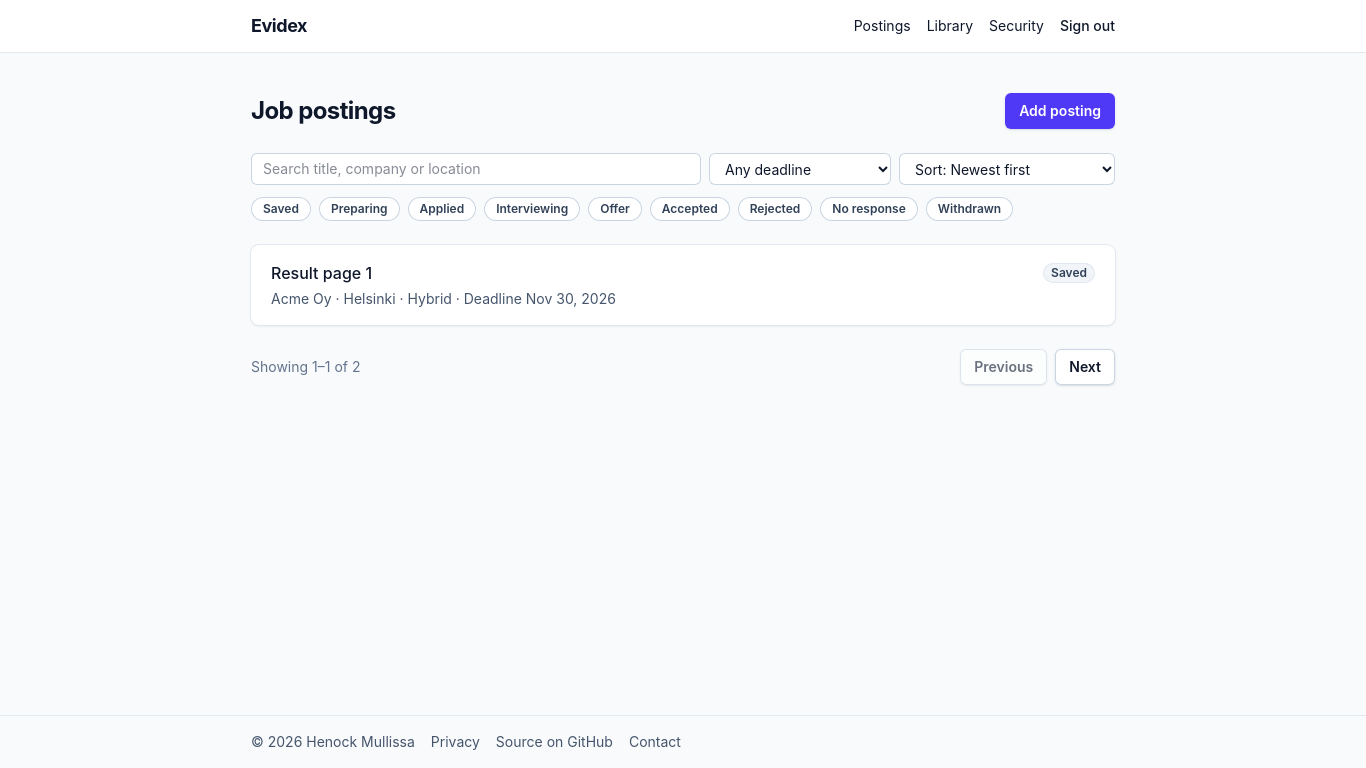
Test case: Job postings › filters by status, search and deadline through the URL and pages through results
This screenshot has width=1366, height=768.
Expected: the text "Showing 1–1 of 2" is shown, [251,357,360,377]
Click the button "Applied". click: point(442, 209)
box: [408,197,476,221]
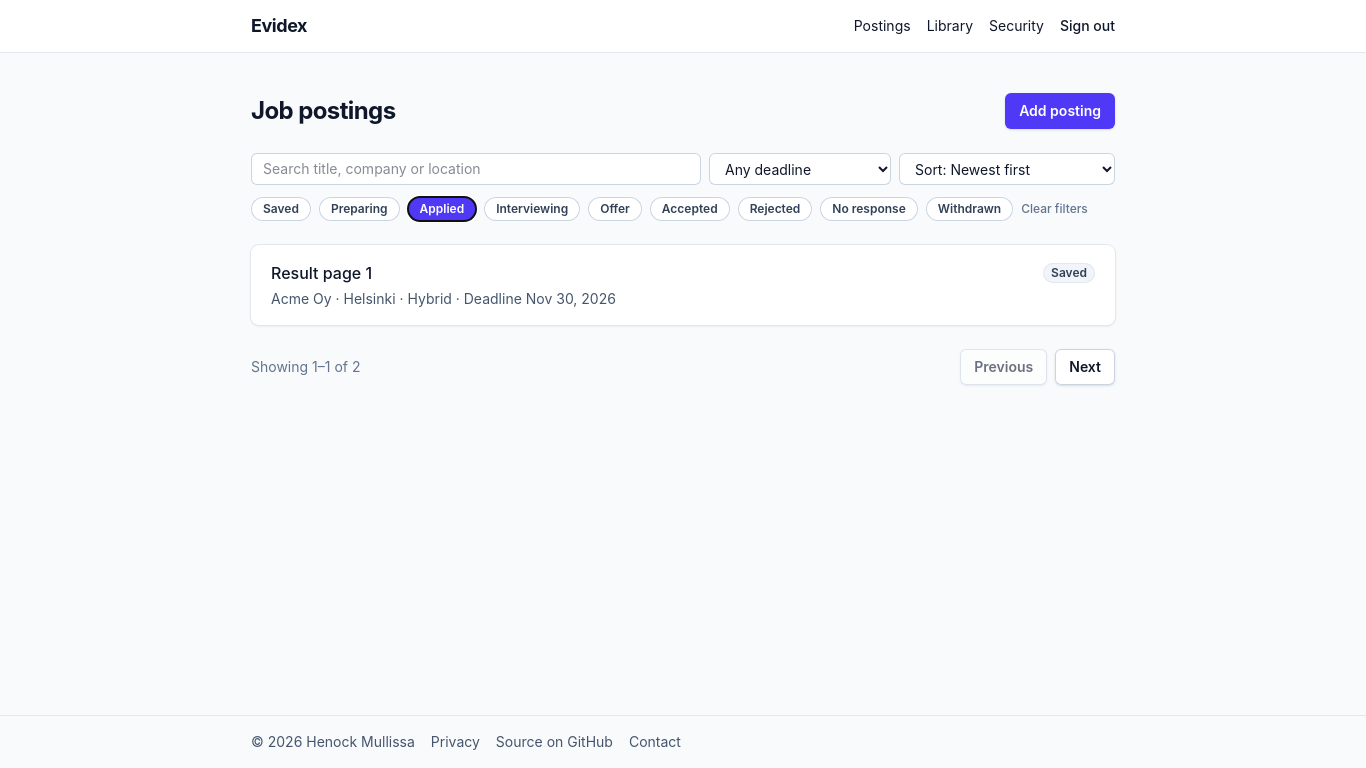
Click the button "Interviewing". click: point(532, 209)
box: [484,197,580,221]
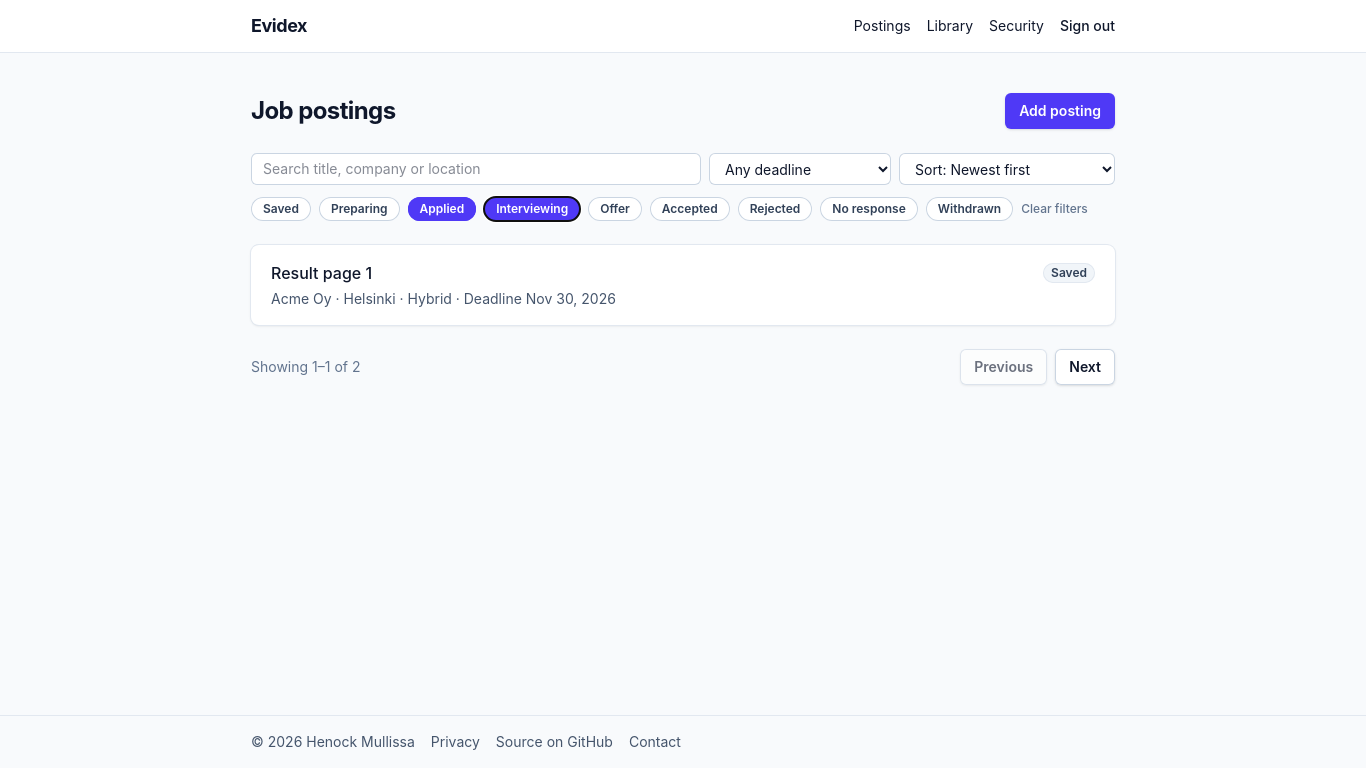
Select "Due within 7 days" in the dropdown named "Deadline". click: point(800, 169)
box: [709,153,891,185]
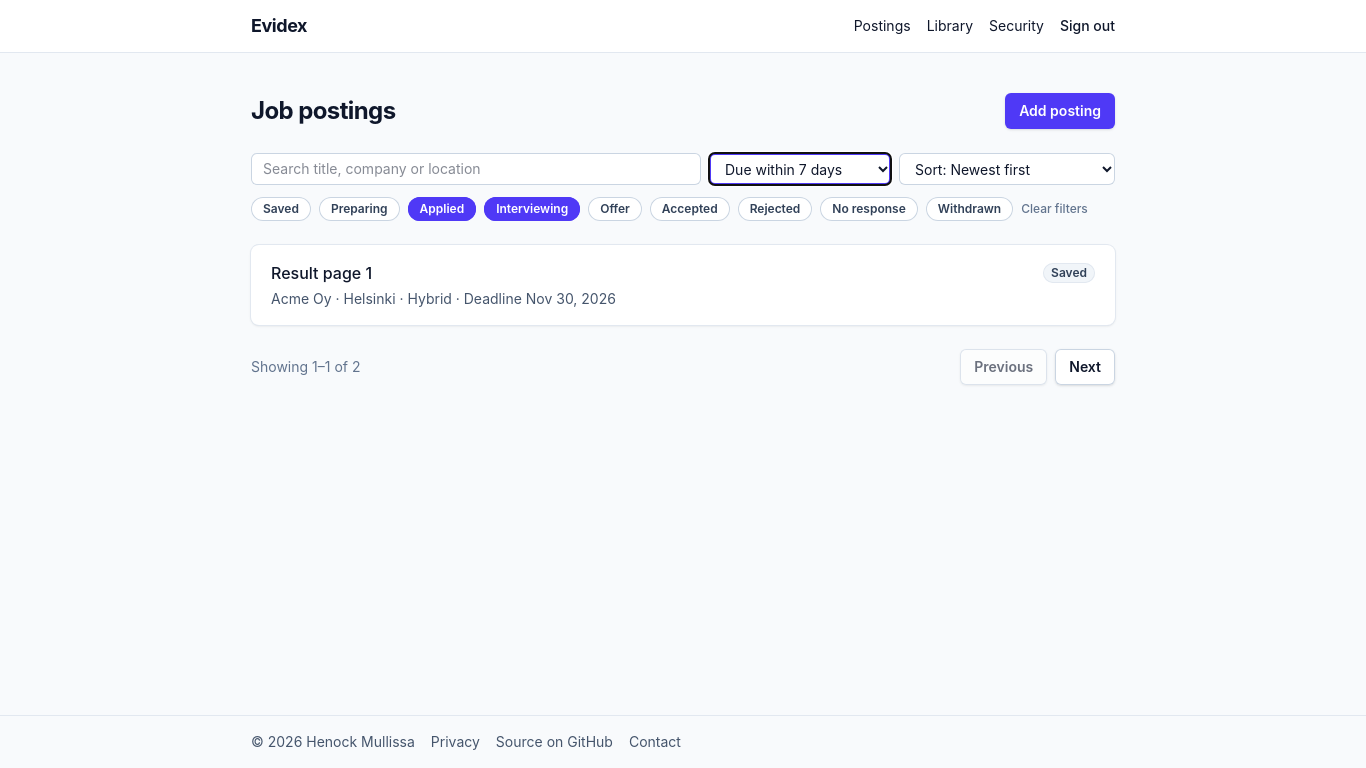
Type "rails" into the search field named "Search postings". click: point(476, 169)
box: [251,153,701,185]
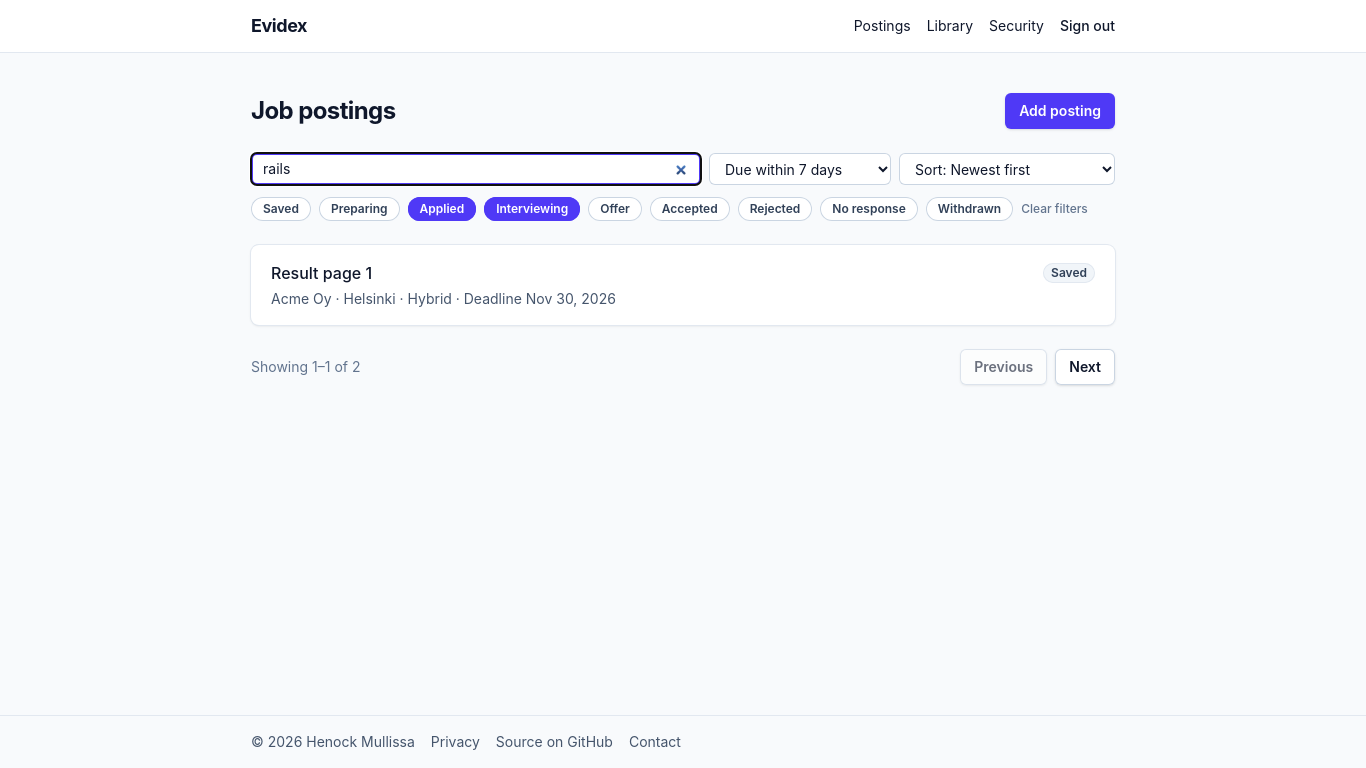
Now the button "Applied" is pressed, box [408,197,476,221]
Click the button "Next". click: point(1085, 367)
box: [1055,349,1115,385]
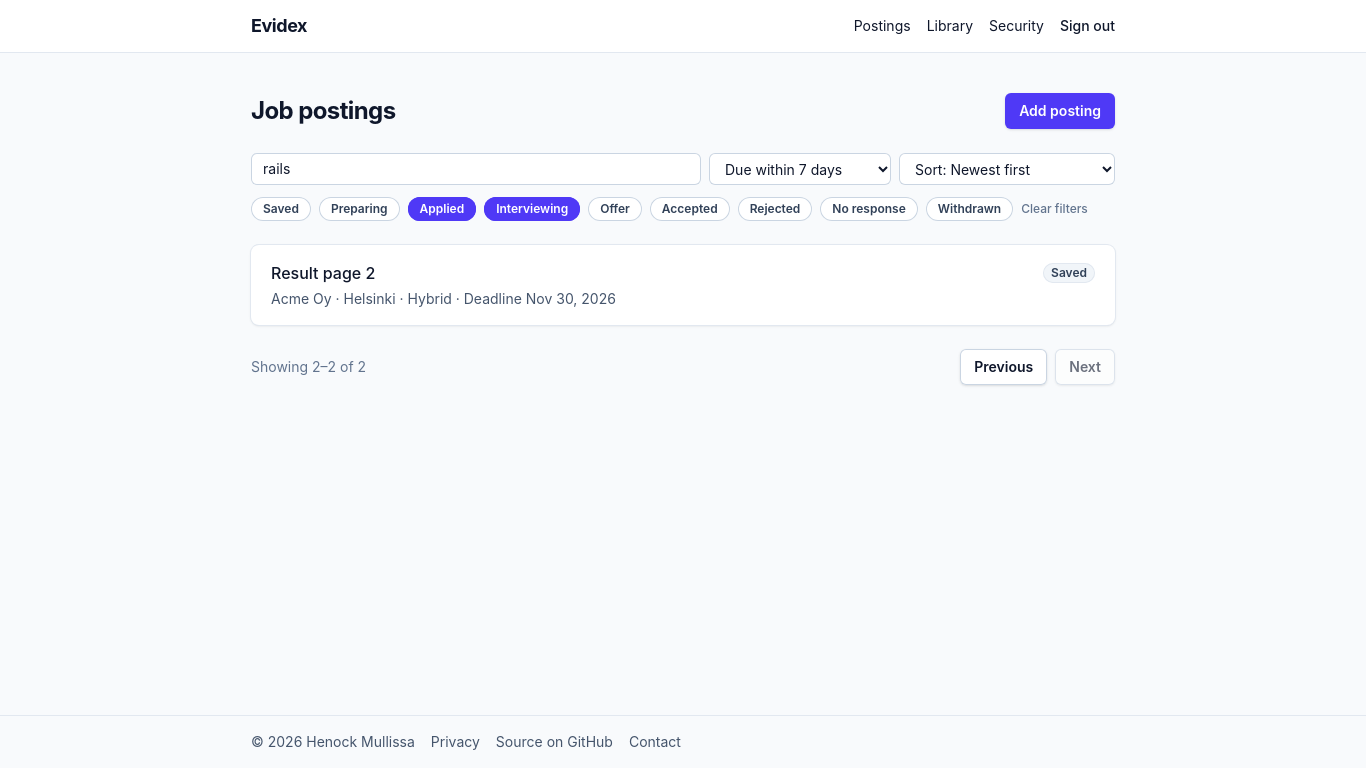
Now the text "Result page 2" is shown, box [271,261,375,285]
Now the button "Next" is disabled, box [1055,349,1115,385]
Click the button "Clear filters". click: point(1054, 209)
box: [1021,201,1088,217]
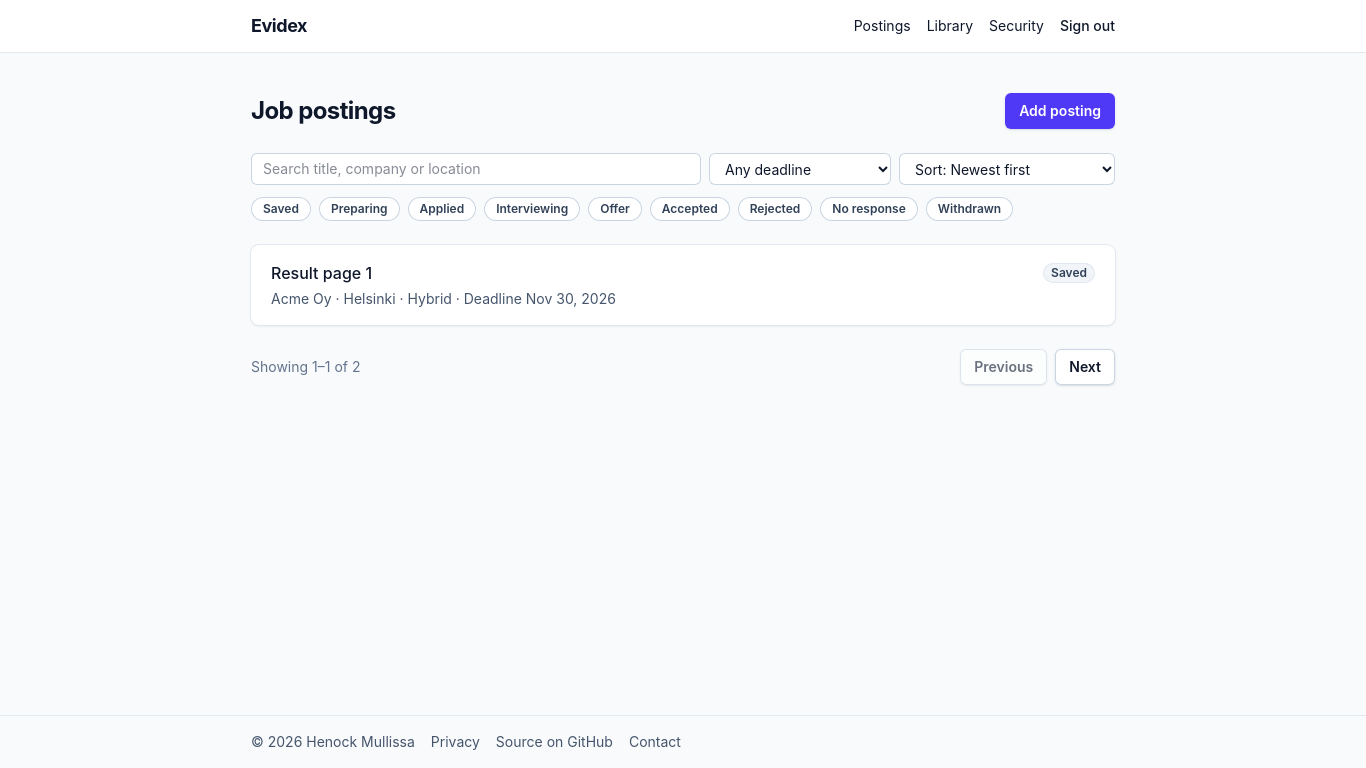
Now the search field named "Search postings" is empty, box [251,153,701,185]
